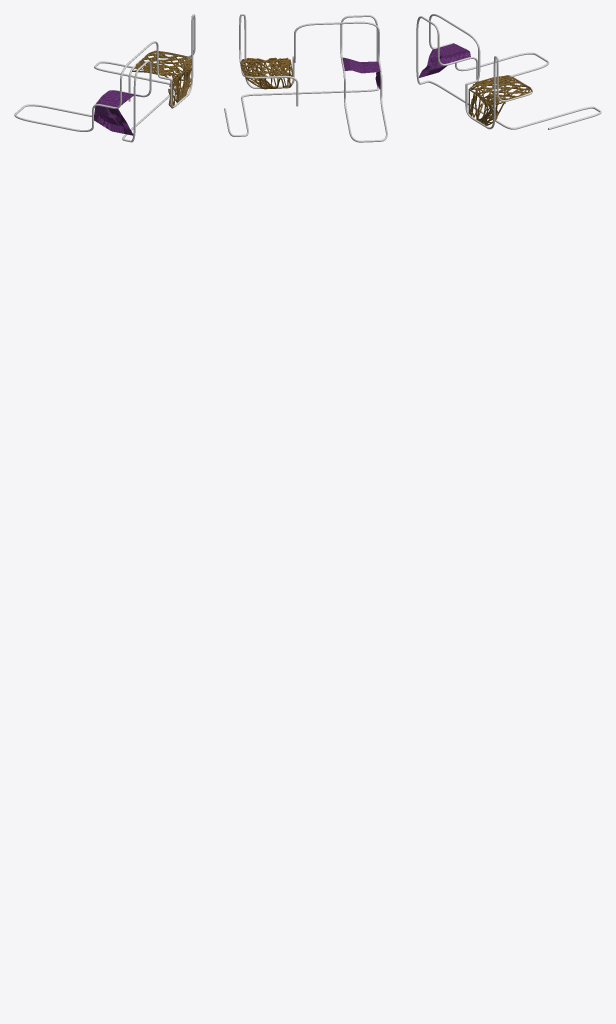
The model's file is modell.glb.
The picture shows the model from 3 angles, left to right: view 1: azimuth 30°, elevation 25°; view 2: azimuth 150°, elevation 25°; view 3: azimuth 270°, elevation 25°; orthographic projection. The views are drawn at different scales.
Visible parts, largest first — view 1: NurbsPath, Plane.008, Plane.007; view 2: NurbsPath, Plane.008, Plane.007; view 3: NurbsPath, Plane.008, Plane.007.
Boxes of the visible parts, x1,y1,x2,y2 form: NurbsPath: [14, 14, 195, 142]; Plane.008: [132, 50, 192, 108]; Plane.007: [94, 90, 142, 135]; NurbsPath: [224, 14, 387, 142]; Plane.008: [240, 57, 293, 89]; Plane.007: [342, 57, 380, 88]; NurbsPath: [416, 14, 601, 129]; Plane.008: [468, 75, 532, 125]; Plane.007: [419, 43, 470, 77].
Size of the model in its own units: 1.9 by 10.85 by 1.83.
Materials: 4 (2 with a texture image).
